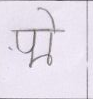e_matra: (37, 7, 61, 29)
